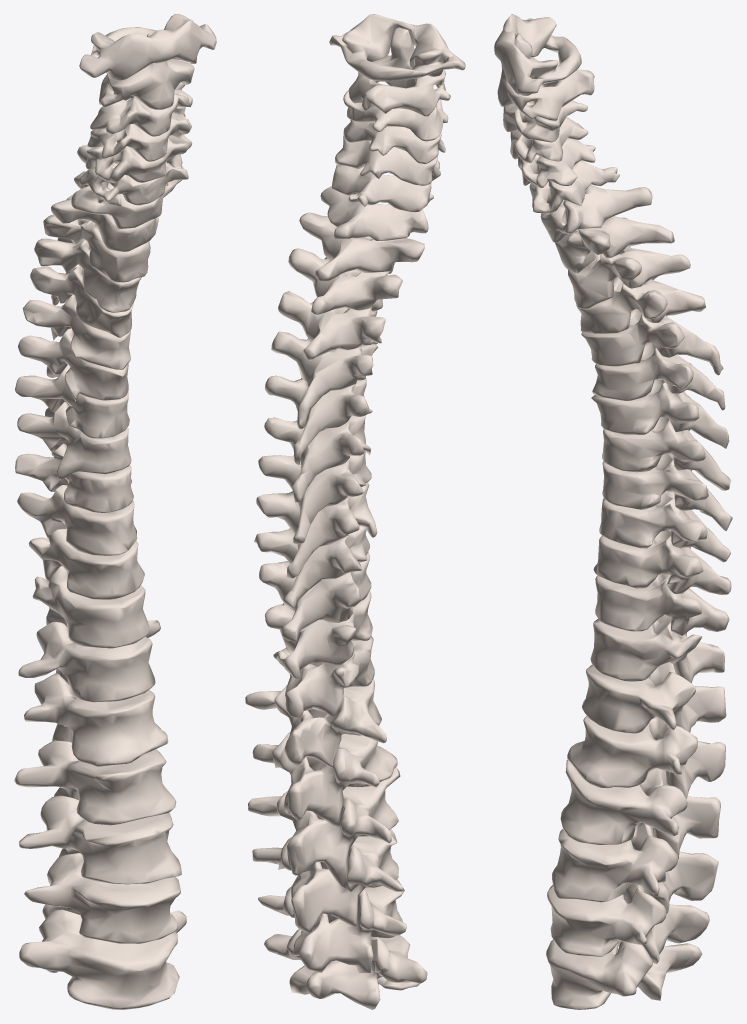
The model's file is vertebrae.glb.
3 renders of one model, left to right at view 1: azimuth 30°, elevation 25°; view 2: azimuth 150°, elevation 25°; view 3: azimuth 270°, elevation 25°, orthographic. The views are drawn at different scales.
Visible parts, largest first — view 1: VH_F_lumbar_vertebra_6, VH_F_lumbar_vertebra_4, VH_F_lumbar_vertebra_5, VH_F_lumbar_vertebra_3, VH_F_lumbar_vertebra_2, VH_F_lumbar_vertebra_1, VH_F_thoracic_vertebra_12, VH_F_cervical_vertebra_1, VH_F_thoracic_vertebra_10, VH_F_thoracic_vertebra_11, VH_F_thoracic_vertebra_8, VH_F_thoracic_vertebra_9 (+13 smaller); view 2: VH_F_lumbar_vertebra_3, VH_F_lumbar_vertebra_2, VH_F_lumbar_vertebra_4, VH_F_lumbar_vertebra_5, VH_F_lumbar_vertebra_6, VH_F_lumbar_vertebra_1, VH_F_cervical_vertebra_1, VH_F_thoracic_vertebra_10, VH_F_thoracic_vertebra_11, VH_F_thoracic_vertebra_8, VH_F_thoracic_vertebra_12, VH_F_thoracic_vertebra_1 (+13 smaller); view 3: VH_F_lumbar_vertebra_4, VH_F_lumbar_vertebra_3, VH_F_lumbar_vertebra_2, VH_F_lumbar_vertebra_5, VH_F_lumbar_vertebra_1, VH_F_lumbar_vertebra_6, VH_F_thoracic_vertebra_12, VH_F_thoracic_vertebra_11, VH_F_thoracic_vertebra_10, VH_F_thoracic_vertebra_9, VH_F_thoracic_vertebra_8, VH_F_thoracic_vertebra_7 (+13 smaller).
Part boxes in pixels (bbox=[...]): VH_F_lumbar_vertebra_6: bbox=[19, 909, 186, 1009]; VH_F_lumbar_vertebra_4: bbox=[19, 795, 181, 884]; VH_F_lumbar_vertebra_5: bbox=[24, 853, 180, 943]; VH_F_lumbar_vertebra_3: bbox=[14, 740, 176, 825]; VH_F_lumbar_vertebra_2: bbox=[24, 673, 168, 766]; VH_F_lumbar_vertebra_1: bbox=[18, 620, 160, 702]; VH_F_thoracic_vertebra_12: bbox=[32, 566, 149, 648]; VH_F_cervical_vertebra_1: bbox=[79, 14, 216, 80]; VH_F_thoracic_vertebra_10: bbox=[17, 478, 137, 555]; VH_F_thoracic_vertebra_11: bbox=[29, 528, 144, 599]; VH_F_thoracic_vertebra_8: bbox=[17, 402, 131, 479]; VH_F_thoracic_vertebra_9: bbox=[15, 443, 133, 512]; VH_F_lumbar_vertebra_3: bbox=[248, 767, 400, 888]; VH_F_lumbar_vertebra_2: bbox=[252, 732, 397, 826]; VH_F_lumbar_vertebra_4: bbox=[252, 829, 402, 932]; VH_F_lumbar_vertebra_5: bbox=[258, 879, 406, 972]; VH_F_lumbar_vertebra_6: bbox=[264, 929, 427, 1009]; VH_F_lumbar_vertebra_1: bbox=[245, 678, 386, 767]; VH_F_cervical_vertebra_1: bbox=[329, 14, 465, 81]; VH_F_thoracic_vertebra_10: bbox=[259, 552, 371, 641]; VH_F_thoracic_vertebra_11: bbox=[265, 591, 372, 678]; VH_F_thoracic_vertebra_8: bbox=[256, 482, 377, 578]; VH_F_thoracic_vertebra_12: bbox=[273, 636, 374, 717]; VH_F_thoracic_vertebra_1: bbox=[299, 212, 424, 281]; VH_F_lumbar_vertebra_4: bbox=[552, 822, 718, 913]; VH_F_lumbar_vertebra_3: bbox=[560, 759, 720, 859]; VH_F_lumbar_vertebra_2: bbox=[567, 715, 725, 799]; VH_F_lumbar_vertebra_5: bbox=[547, 882, 709, 963]; VH_F_lumbar_vertebra_1: bbox=[582, 662, 726, 733]; VH_F_lumbar_vertebra_6: bbox=[546, 939, 702, 1009]; VH_F_thoracic_vertebra_12: bbox=[590, 615, 724, 682]; VH_F_thoracic_vertebra_11: bbox=[595, 574, 729, 636]; VH_F_thoracic_vertebra_10: bbox=[593, 530, 731, 594]; VH_F_thoracic_vertebra_9: bbox=[599, 491, 730, 562]; VH_F_thoracic_vertebra_8: bbox=[602, 454, 732, 530]; VH_F_thoracic_vertebra_7: bbox=[602, 416, 730, 490].
Bounding box in the file's own units: 0.1045 × 0.5934 × 0.1331.
